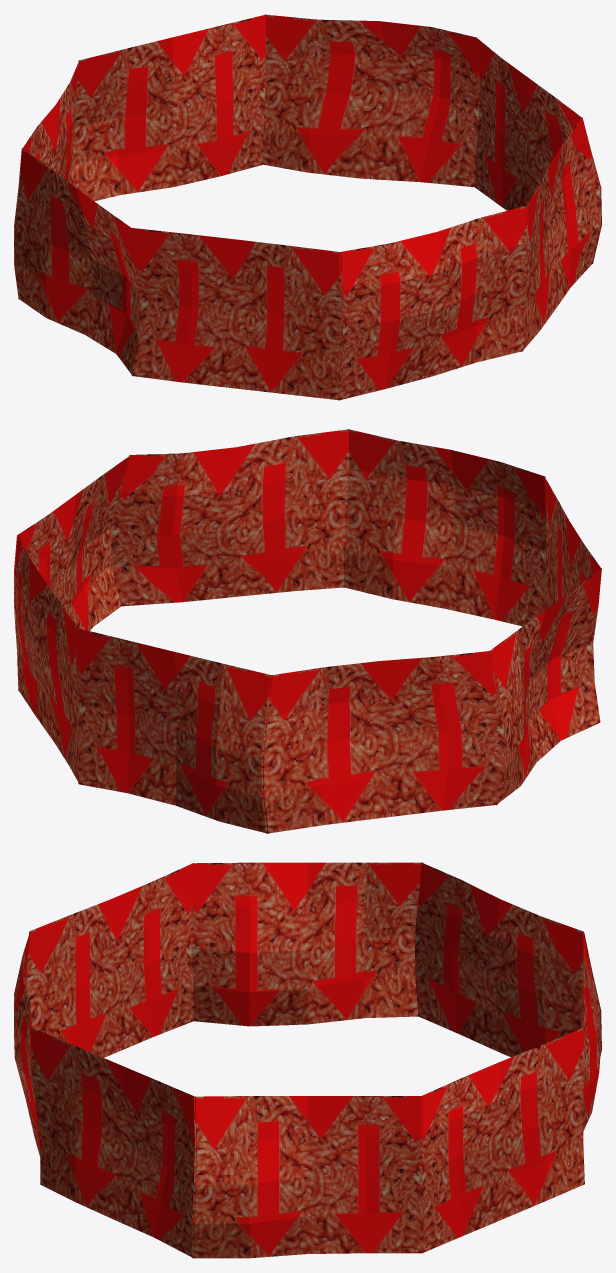
Rendered from vegg.fbx.
The picture shows the model from 3 angles, top to bottom: view 1: azimuth 30°, elevation 25°; view 2: azimuth 150°, elevation 25°; view 3: azimuth 270°, elevation 25°; orthographic projection. The views are drawn at different scales.
Parts seen in each view (by area): view 1: pCube4; view 2: pCube4; view 3: pCube4.
Boxes of the visible parts, x1,y1,x2,y2 form: pCube4: [14, 14, 601, 400]; pCube4: [14, 429, 601, 833]; pCube4: [14, 862, 601, 1258].
Size of the model in its own units: 322 by 98.98 by 321.
1 material, 1 textured.
